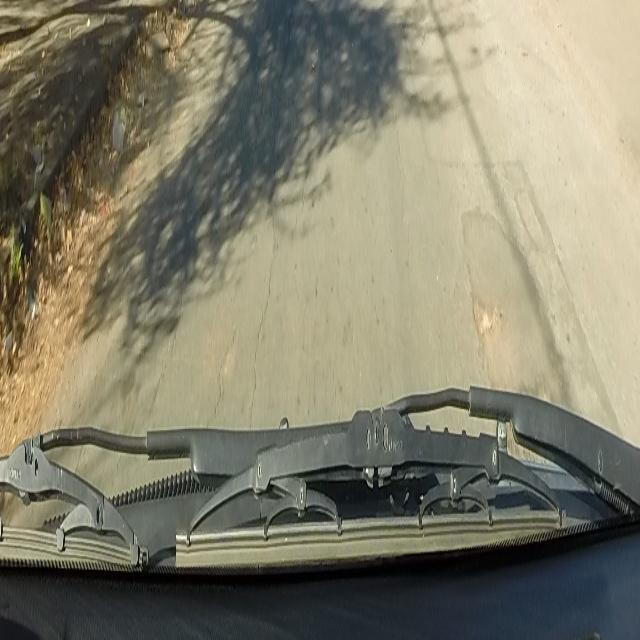pothole: (471, 292, 502, 340)
